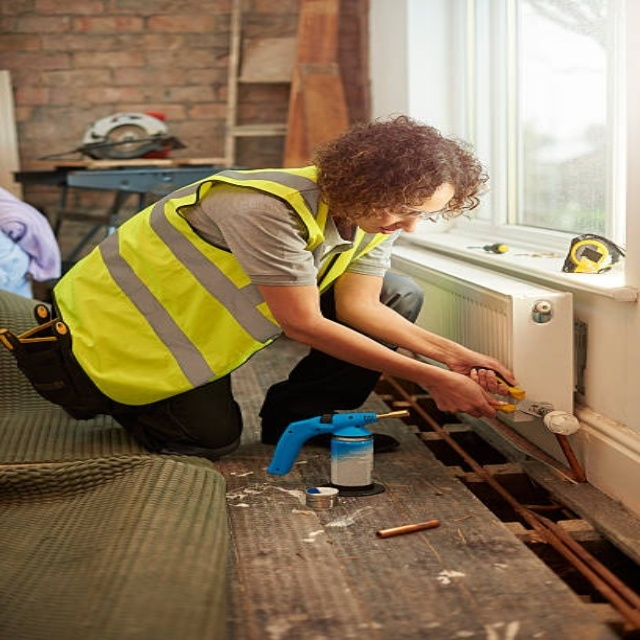Gafas: (384, 202, 450, 223)
Sin_guantes: (423, 364, 514, 418), (445, 349, 527, 402)
Sin_mascara: (365, 220, 405, 238)
